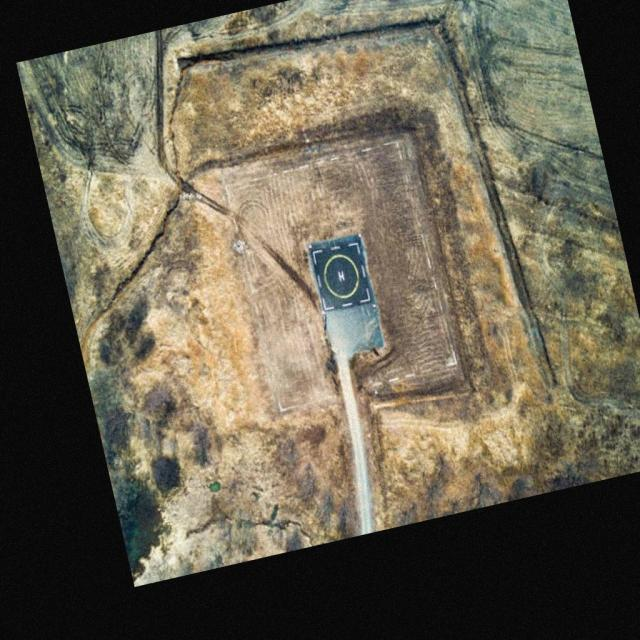helipad: (322, 252, 359, 298)
